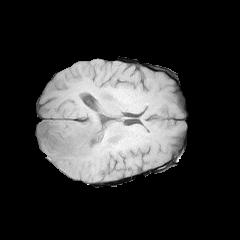glioma: (38, 110, 145, 176)
